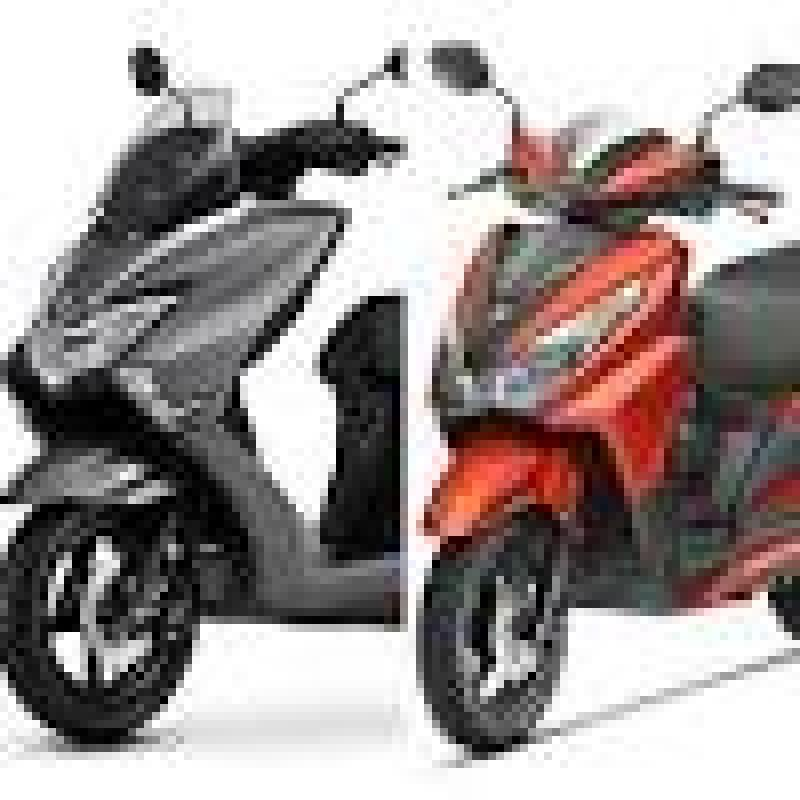bike: (2, 11, 397, 766), (416, 10, 800, 746)
